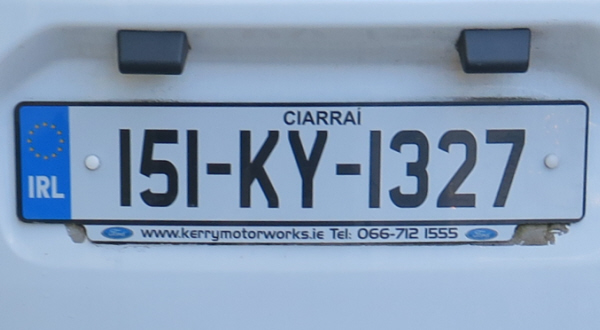license_plate: (14, 101, 589, 225)
